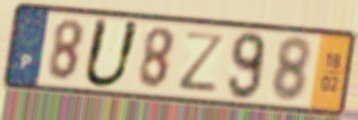8: (270, 33, 313, 106), (136, 25, 176, 91), (46, 17, 85, 83)
9: (224, 28, 268, 103)
U: (79, 15, 144, 91)
Z: (178, 29, 229, 95)
